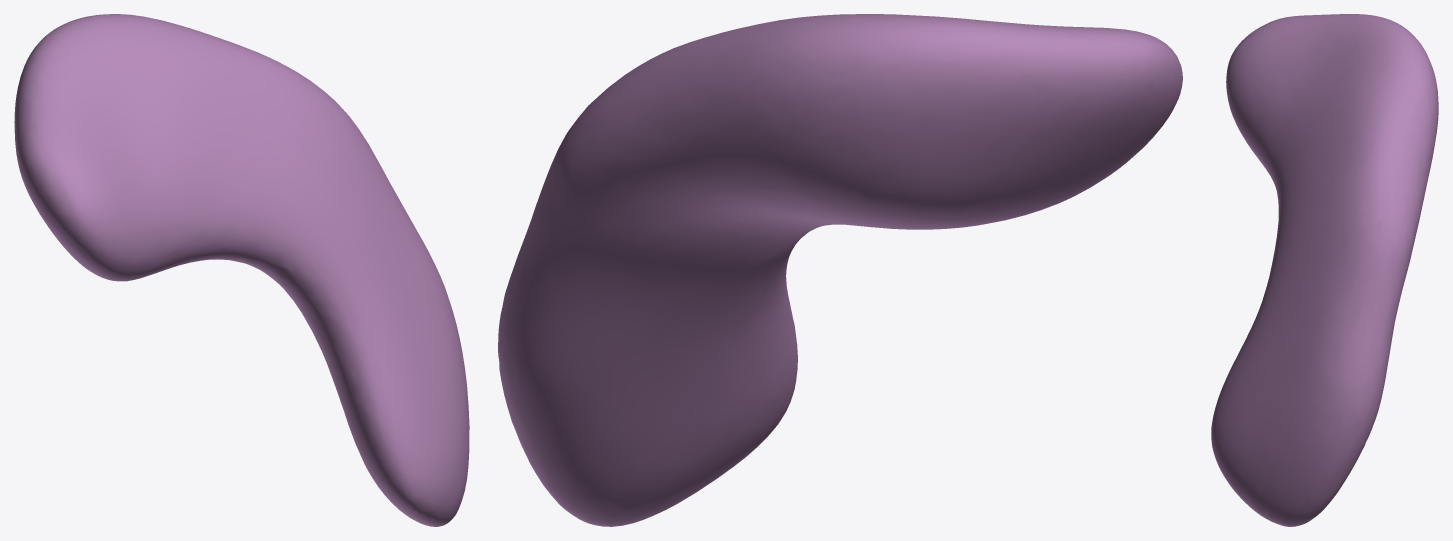
3 views of the same model, side by side, from view 1: azimuth 30°, elevation 25°; view 2: azimuth 150°, elevation 25°; view 3: azimuth 270°, elevation 25° (orthographic). The views are drawn at different scales.
Visible parts, largest first — view 1: 左侧薄小叶; view 2: 左侧薄小叶; view 3: 左侧薄小叶.
Part boxes in pixels (x1,y1,x2,y2): 左侧薄小叶: [14, 14, 469, 526]; 左侧薄小叶: [498, 14, 1182, 526]; 左侧薄小叶: [1211, 14, 1438, 526].
Bounding box in the file's own units: 0.0513 × 0.0539 × 0.0287.
